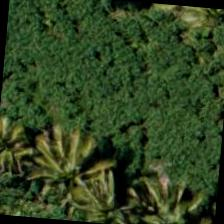Kelapa_Sawit: (24, 114, 122, 212), (126, 179, 219, 223)
